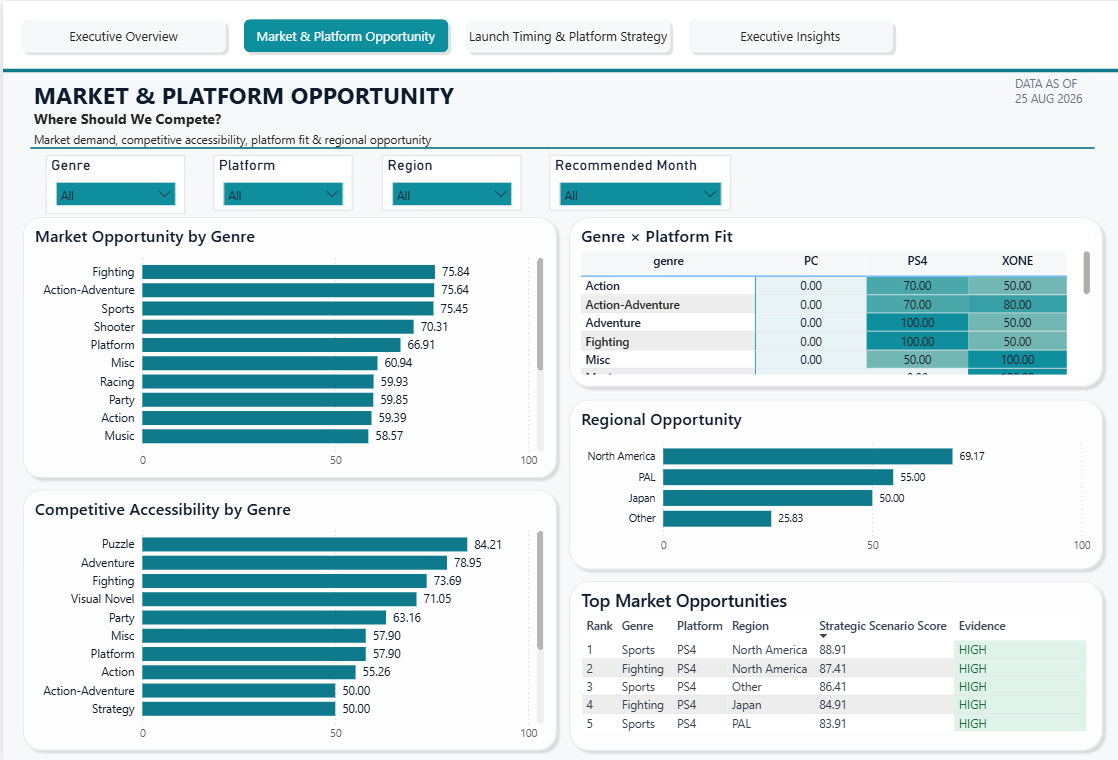

The dashboard page shown, as its layout file describes it:
{"tool":"powerbi","page":{"name":"Market & Platform Opportunity","canvas":[1280,870],"ordinal":1},"visuals":[{"type":"shape","box":[640,240,624,208],"z":0},{"type":"shape","box":[0,0,1280,80],"z":500,"group":"g6"},{"type":"textbox","box":[30,84,600,45],"z":1000},{"type":"pageNavigator","box":[16,16,1008,48],"z":1001,"group":"g6"},{"type":"textbox","box":[30,119,592,48],"z":2000},{"type":"textbox","box":[30,144,592,48],"z":3000},{"type":"shape","box":[16,240,624,312],"z":3000,"group":"g5"},{"type":"textbox","box":[1152,80,96,48],"z":4000},{"type":"shape","box":[640,448,624,208],"z":4000,"group":"g4"},{"type":"shape","box":[32,160,1216,16],"z":5000},{"type":"shape","box":[16,552,624,312],"z":5000,"group":"g3"},{"type":"shape","box":[0,72,1280,16],"z":6000,"group":"g6"},{"type":"pivotTable","title":"Genre × Platform Fit","fields":{"Rows":["phase2_genre_platform_fit.genre"],"Columns":["phase2_genre_platform_fit.platform"],"Values":["Avg(phase2_genre_platform_fit.genre_platform_fit_score)"]},"box":[656,256,592,176],"z":6000},{"type":"group","id":"g1","title":"Group 1","box":[48,176,784,64],"z":7000},{"type":"slicer","title":"Genre","fields":{"Values":["DimGenre.Genre"]},"box":[48,176,160,68],"z":8000,"group":"g1"},{"type":"group","id":"g2","title":"Group 2","box":[640,656,624,208],"z":8000},{"type":"slicer","title":"Recommended Month","fields":{"Values":["DimMonth.Month Name"]},"box":[624,176,208,64],"z":9000,"group":"g1"},{"type":"clusteredBarChart","title":"Regional Opportunity","fields":{"Y":["Avg(phase2_regional_opportunity.regional_opportunity_score)"],"Category":["phase2_regional_opportunity.region"]},"box":[656,464,592,176],"z":9000,"group":"g4"},{"type":"group","id":"g3","title":"Group 3","box":[16,552,624,312],"z":9000},{"type":"group","id":"g4","title":"Group 4","box":[640,448,624,208],"z":10000},{"type":"clusteredBarChart","title":"Competitive Accessibility by Genre","fields":{"Y":["Avg(phase2_competitive_accessibility.competitive_accessibility_score)"],"Category":["phase2_competitive_accessibility.genre"]},"box":[32,568,592,288],"z":10000,"group":"g3"},{"type":"slicer","title":"Platform","fields":{"Values":["DimPlatform.Platform"]},"box":[240,176,160,64],"z":11000,"group":"g1"},{"type":"group","id":"g5","title":"Group 5","box":[16,240,624,312],"z":11000},{"type":"shape","box":[640,656,624,208],"z":11000,"group":"g2"},{"type":"slicer","title":"Region","fields":{"Values":["DimRegion.Region"]},"box":[432,176,160,64],"z":12000,"group":"g1"},{"type":"tableEx","title":"Top Market Opportunities","fields":{"Values":["_Measures.Scenario Rank2","phase5_scenario_score.genre","phase5_scenario_score.platform","phase5_scenario_score.region","phase5_scenario_score.strategic_scenario_score","phase5_scenario_score.market_evidence_quality"]},"box":[656,672,592,176],"z":12000,"group":"g2"},{"type":"clusteredBarChart","title":"Market Opportunity by Genre","fields":{"Category":["phase2_market_opportunity.genre"],"Y":["Avg(phase2_market_opportunity.opportunity_score)"]},"box":[32,256,592,288],"z":13000,"group":"g5"},{"type":"group","id":"g6","title":"Group 4","box":[0,0,1280,88],"z":15006}]}

Visuals, with their boxes in screenshot pixels (x1, y1, x2, y2), scaled from the page's 1280x870 canvas onto the 1118x760 screenshot:
shape: box=[559, 210, 1104, 391]
shape: box=[0, 0, 1117, 70]
textbox: box=[26, 73, 550, 113]
pageNavigator: box=[14, 14, 894, 56]
textbox: box=[26, 104, 543, 146]
textbox: box=[26, 126, 543, 168]
shape: box=[14, 210, 559, 482]
textbox: box=[1006, 70, 1090, 112]
shape: box=[559, 391, 1104, 573]
shape: box=[28, 140, 1090, 154]
shape: box=[14, 482, 559, 755]
shape: box=[0, 63, 1117, 77]
"Genre × Platform Fit" pivotTable: box=[573, 224, 1090, 377]
"Group 1" group: box=[42, 154, 727, 210]
"Genre" slicer: box=[42, 154, 182, 213]
"Group 2" group: box=[559, 573, 1104, 755]
"Recommended Month" slicer: box=[545, 154, 727, 210]
"Regional Opportunity" clusteredBarChart: box=[573, 405, 1090, 559]
"Group 3" group: box=[14, 482, 559, 755]
"Group 4" group: box=[559, 391, 1104, 573]
"Competitive Accessibility by Genre" clusteredBarChart: box=[28, 496, 545, 748]
"Platform" slicer: box=[210, 154, 349, 210]
"Group 5" group: box=[14, 210, 559, 482]
shape: box=[559, 573, 1104, 755]
"Region" slicer: box=[377, 154, 517, 210]
"Top Market Opportunities" tableEx: box=[573, 587, 1090, 741]
"Market Opportunity by Genre" clusteredBarChart: box=[28, 224, 545, 475]
"Group 4" group: box=[0, 0, 1117, 77]
